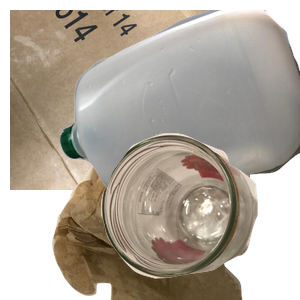cardboard: (10, 10, 250, 190)
glass: (98, 131, 300, 300)
plastic: (60, 10, 300, 190)
trash: (50, 120, 285, 300)
